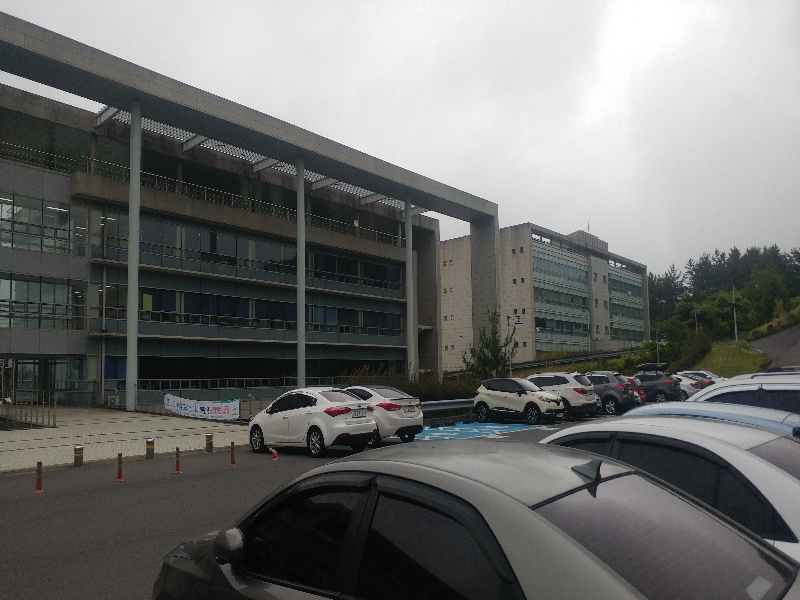College of Marine Science: (448, 225, 654, 354)
Engineering College Building 4: (9, 30, 443, 386)
